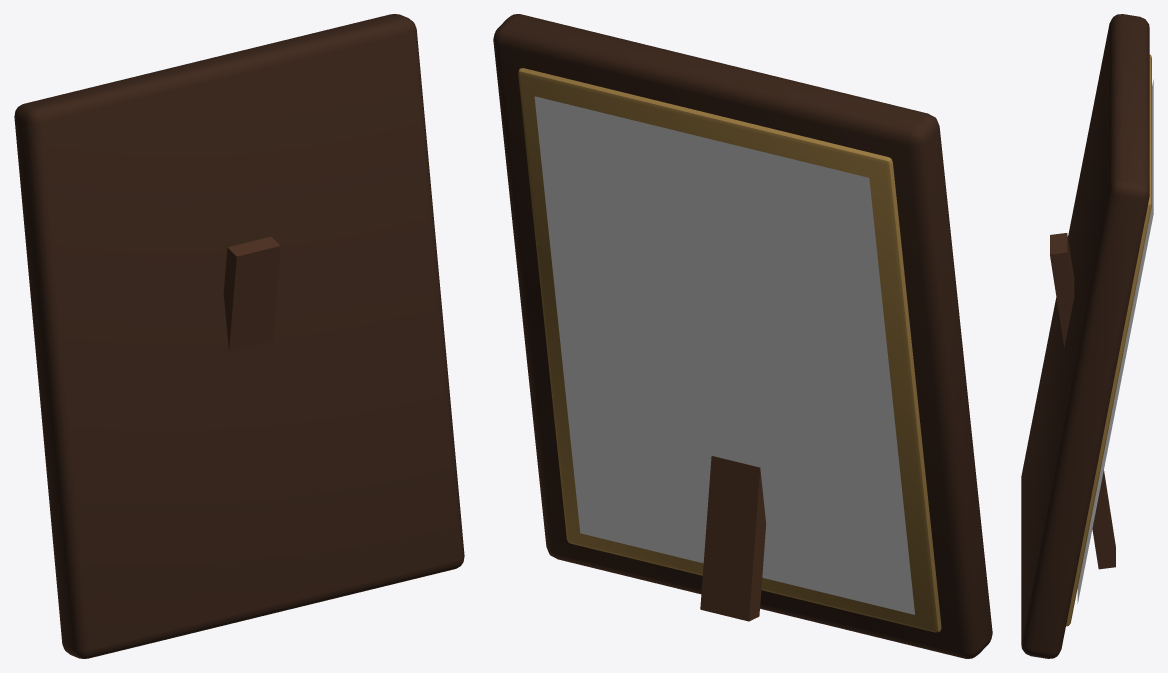
The model's file is Frame_Tall.fbx.
The picture shows the model from 3 angles, left to right: view 1: azimuth 30°, elevation 25°; view 2: azimuth 150°, elevation 25°; view 3: azimuth 270°, elevation 25°; orthographic projection. The views are drawn at different scales.
Visible parts, largest first — view 1: Frame_Tall; view 2: PHOTO, Frame_Tall; view 3: Frame_Tall, PHOTO.
Part boxes in pixels (x1,y1,x2,y2): Frame_Tall: (14, 14, 464, 658); PHOTO: (534, 96, 914, 614); Frame_Tall: (493, 14, 992, 658); Frame_Tall: (1021, 14, 1151, 658); PHOTO: (1077, 79, 1153, 603).
Bounding box in the file's own units: 0.142 × 0.1803 × 0.0454.
